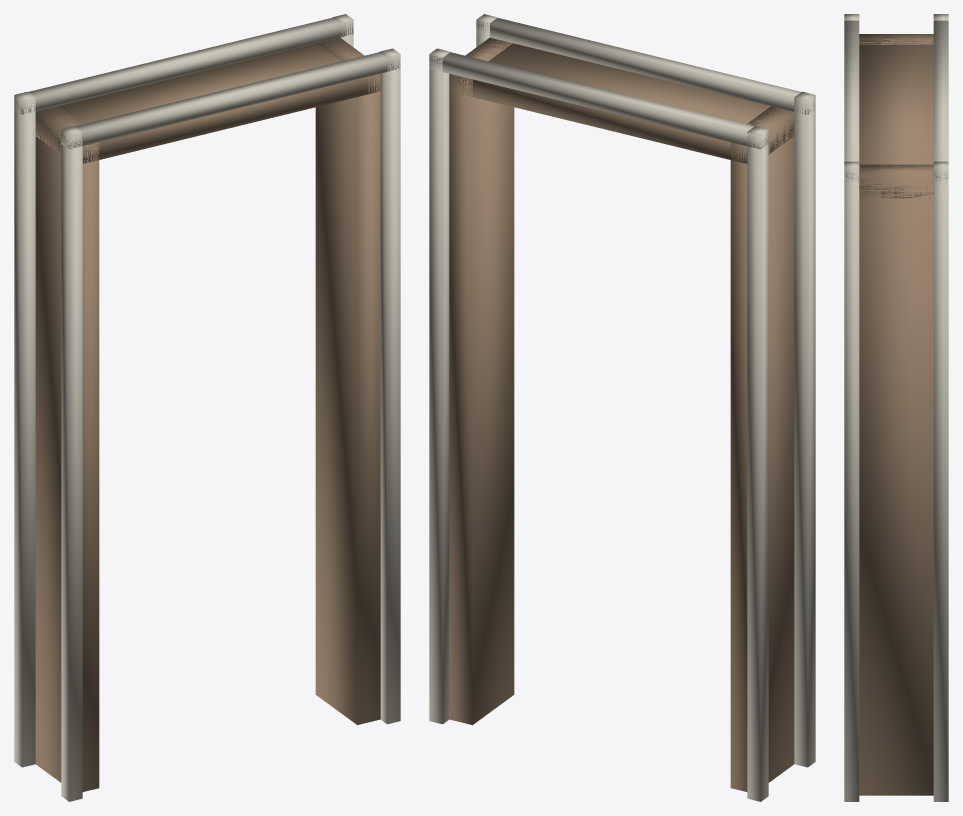
The model's file is doorway_painted_trim_w86_h200_d24.glb.
The picture shows the model from 3 angles, left to right: view 1: azimuth 30°, elevation 25°; view 2: azimuth 150°, elevation 25°; view 3: azimuth 270°, elevation 25°; orthographic projection. The views are drawn at different scales.
Parts seen in each view (by area): view 1: world; view 2: world; view 3: world.
Part boxes in pixels (<box>): world: <box>14,14,400,801</box>; world: <box>429,14,815,801</box>; world: <box>844,14,948,801</box>.
Bounding box in the file's own units: 1.1 × 2.12 × 0.3165.
